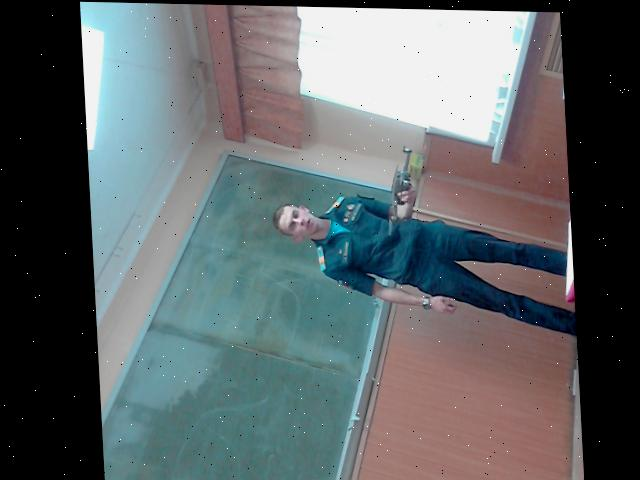drone: (372, 129, 419, 246)
